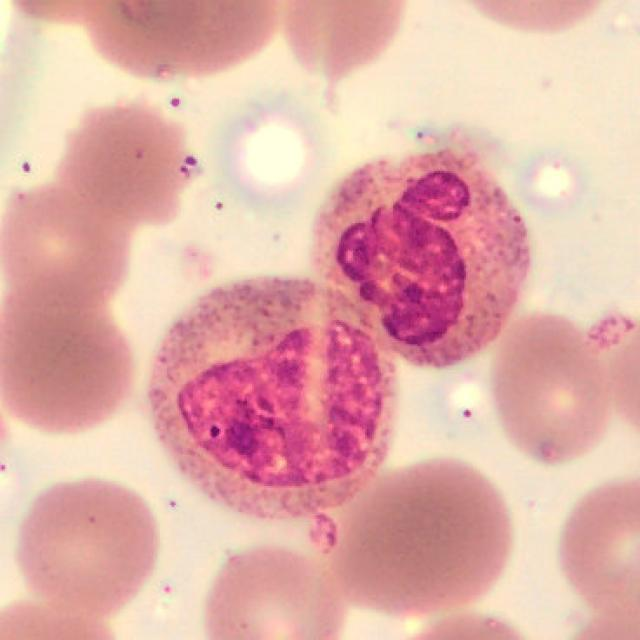Bastonete: (315, 149, 532, 368)
Mielocito: (148, 280, 400, 522)
